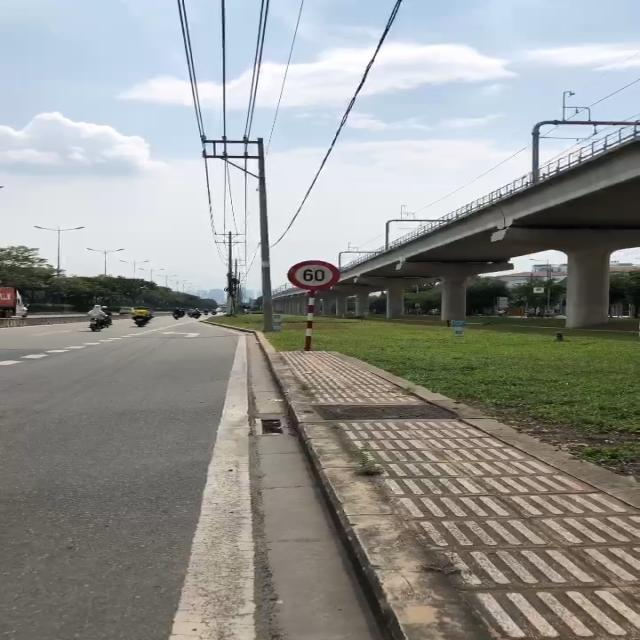Bien bao toc do toi da cho phep: (285, 258, 350, 295)
